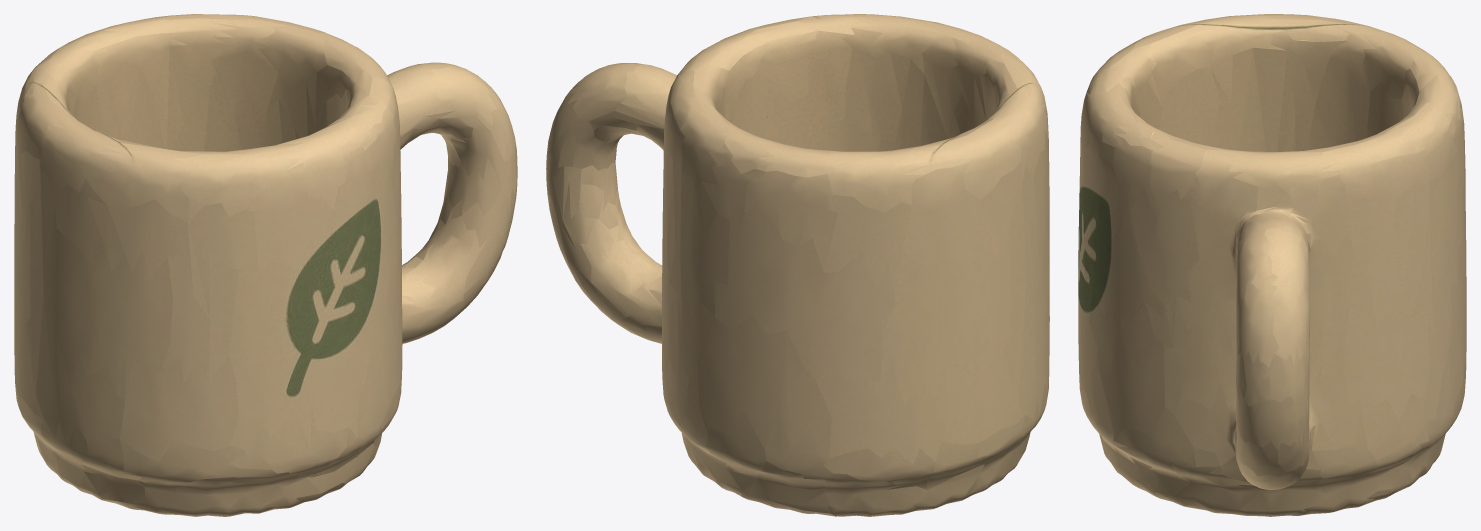
The model's file is mug.glb.
3 views of the same model, side by side, from view 1: azimuth 30°, elevation 25°; view 2: azimuth 150°, elevation 25°; view 3: azimuth 270°, elevation 25° (orthographic).
Visible parts, largest first — view 1: mesh_node; view 2: mesh_node; view 3: mesh_node.
Part boxes in pixels (x1,y1,x2,y2): mesh_node: (14,14,517,516); mesh_node: (546,14,1049,516); mesh_node: (1078,14,1466,516).
Size of the model in its own units: 0.07 by 0.052 by 0.0499.
1 material, 1 textured.
